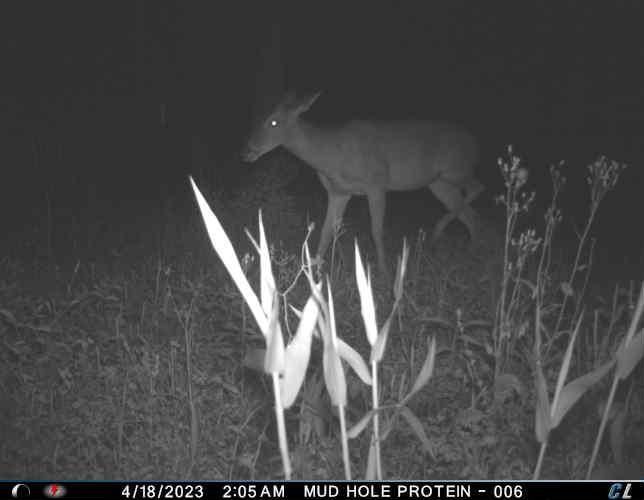Raccoon: (241, 80, 489, 274)
